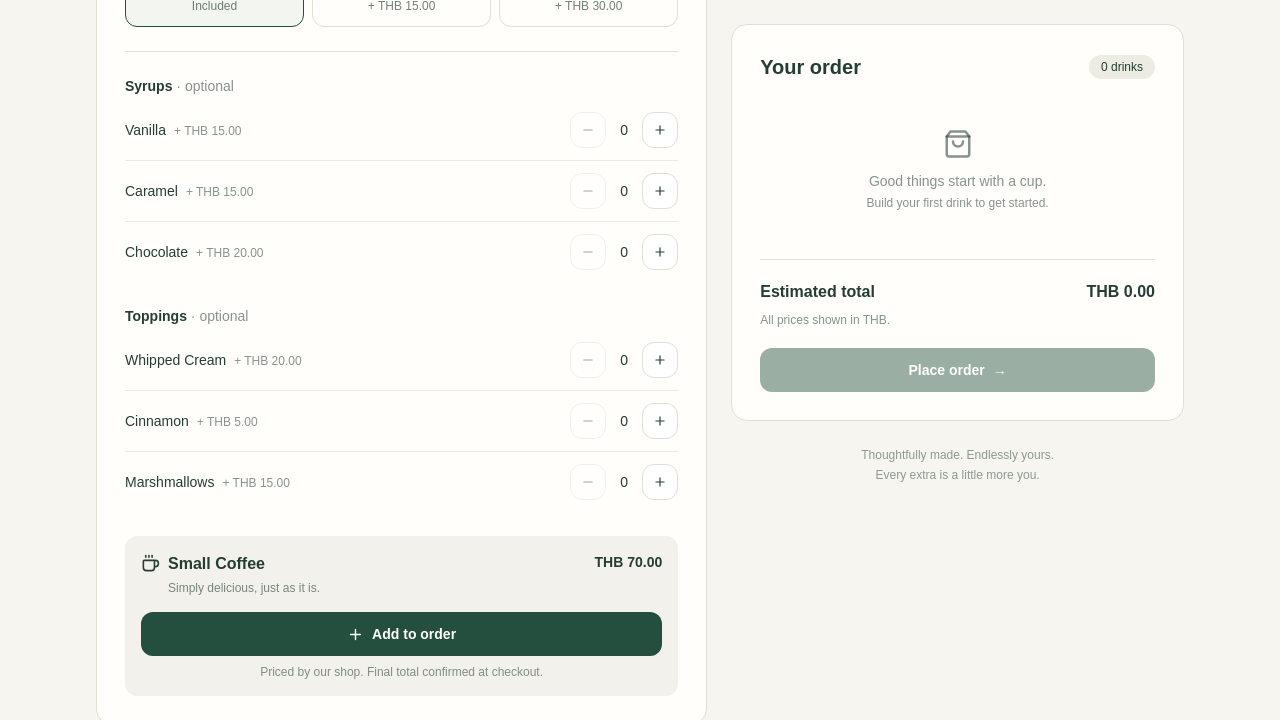
Test: Coffee ordering › adds duplicate toppings
(page scrolled)
Check: the button "Add to order" is enabled, box [141,612,662,656]
Step 1. Click the button named "Add Whipped Cream" → click(660, 360), box [642,342,678,378]
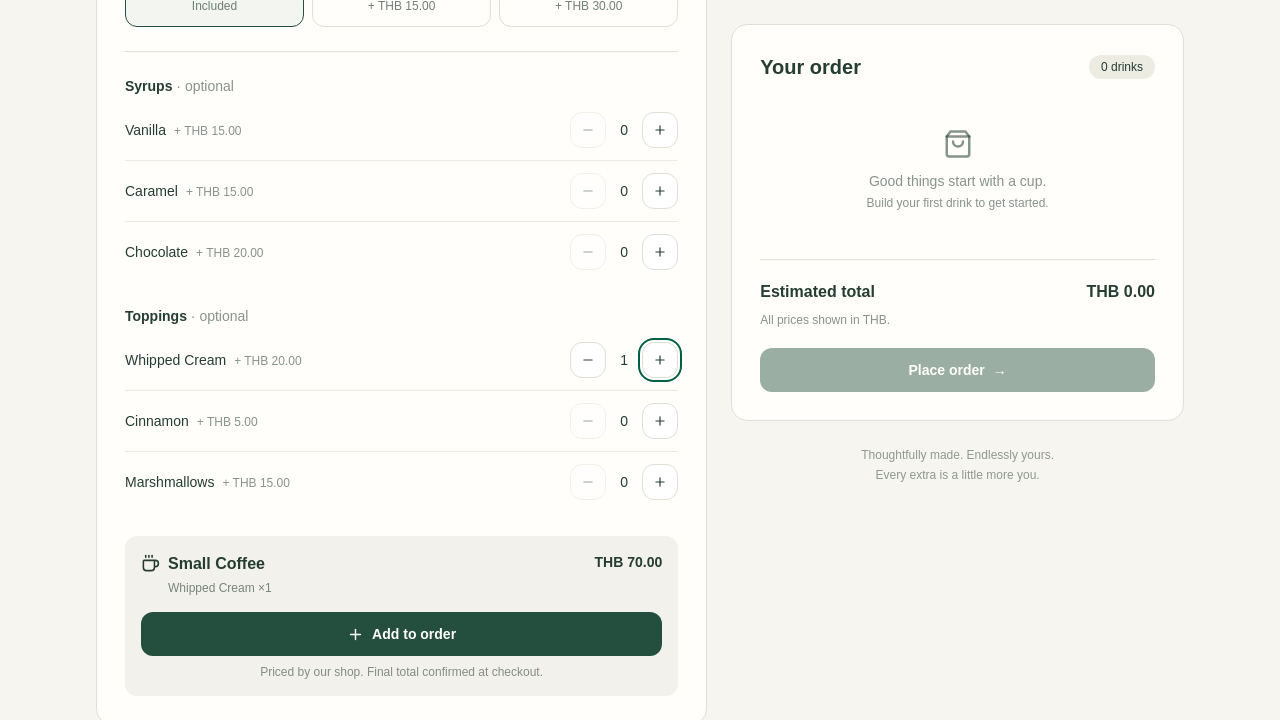
Step 2. Click the button named "Add Whipped Cream" → click(660, 360), box [642,342,678,378]
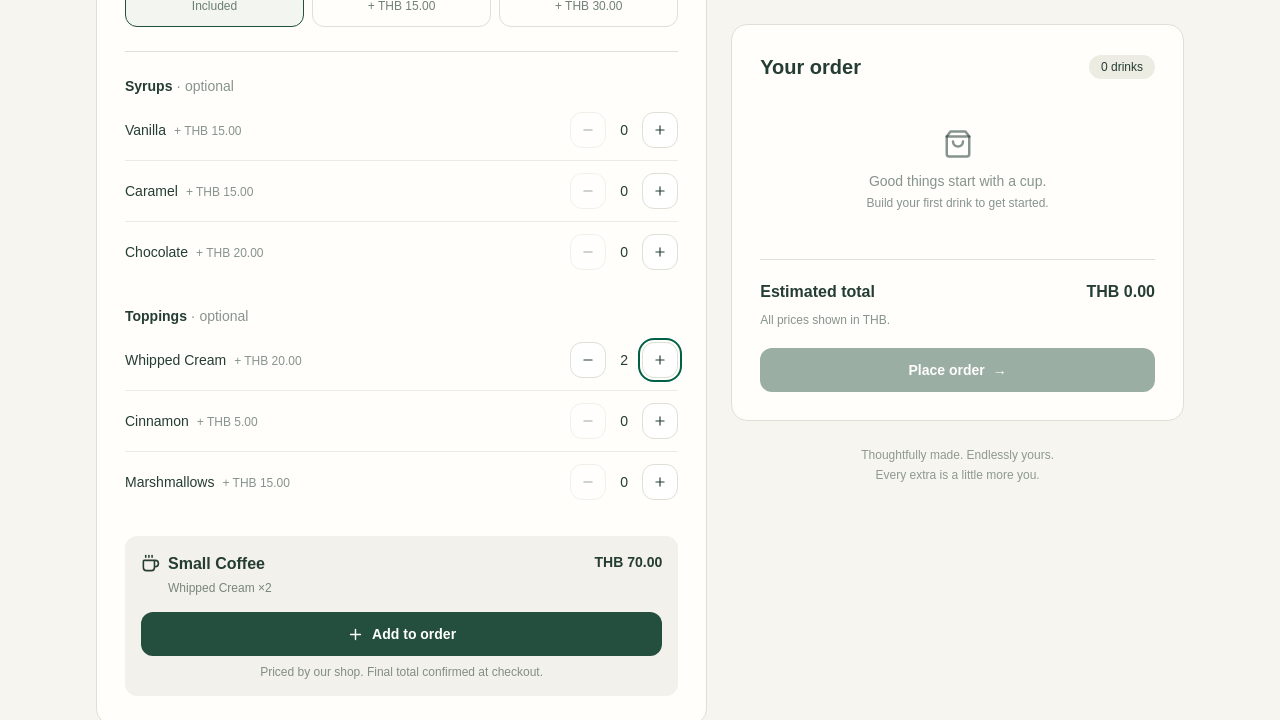
Check: the text "Whipped Cream ×2" is shown, box [168,580,272,596]
